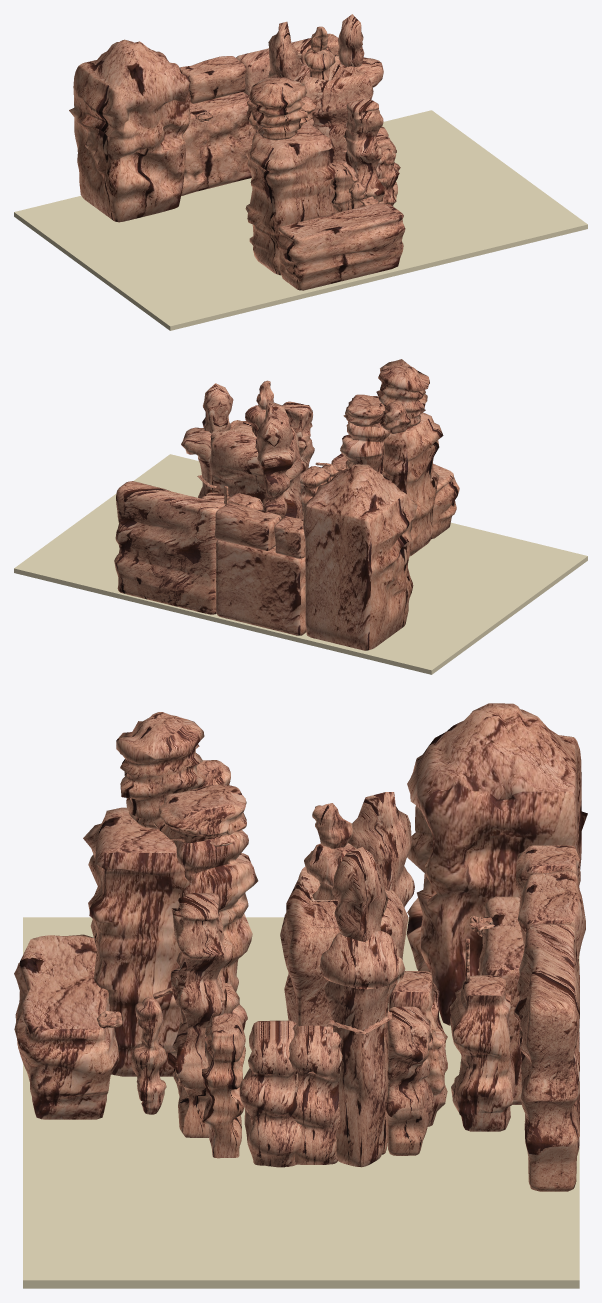
The model's file is env_model_level1_001.fbx.
The picture shows the model from 3 angles, top to bottom: view 1: azimuth 30°, elevation 25°; view 2: azimuth 150°, elevation 25°; view 3: azimuth 270°, elevation 25°; orthographic projection. The views are drawn at different scales.
Visible parts, largest first — view 1: ground, rockwall_a00, rockwall_c03, rockwall_c02, rockwall_a04, rockwall_b09, rockwall_c04, rockwall_b07, rockwall_a02, rockwall_a03, rockwall_b09a, rockwall_b03a (+4 smaller); view 2: ground, rockwall_a00, rockwall_a03, rockwall_a04, rockwall_c03, rockwall_b09, rockwall_b09a, rockwall_a02, rockwall_c04, rockwall_c07, rockwall_c02, rockwall_b03a (+6 smaller); view 3: ground, rockwall_a00, rockwall_c03, rockwall_c02, rockwall_a03, rockwall_b03, rockwall_b07, rockwall_a05, rockwall_b09, rockwall_b05, rockwall_c04, rockwall_b04 (+13 smaller).
Part boxes in pixels (x1,y1,x2,y2): ground: (14,110,587,330); rockwall_a00: (69,39,190,222); rockwall_c03: (245,123,337,275); rockwall_c02: (278,203,405,290); rockwall_a04: (181,92,255,195); rockwall_b09: (293,54,372,163); rockwall_c04: (248,76,307,140); rockwall_b07: (343,98,384,206); rockwall_a02: (180,56,246,103); rockwall_a03: (236,33,338,132); rockwall_b09a: (268,21,301,79); rockwall_b03a: (337,14,364,66); ground: (14,454,587,674); rockwall_a00: (303,464,417,650); rockwall_a03: (114,481,225,614); rockwall_a04: (216,540,306,635); rockwall_c03: (381,412,443,556); rockwall_b09: (210,420,302,518); rockwall_b09a: (255,400,295,518); rockwall_a02: (214,503,281,550); rockwall_c04: (376,359,429,426); rockwall_c07: (340,423,389,475); rockwall_c02: (331,453,459,538); rockwall_b03a: (202,383,233,433); ground: (23,917,579,1288); rockwall_a00: (406,703,587,1025); rockwall_c03: (83,807,189,1076); rockwall_c02: (14,934,119,1119); rockwall_a03: (513,924,579,1191); rockwall_b03: (319,931,405,1167); rockwall_b07: (168,893,232,1137); rockwall_a05: (449,975,514,1131); rockwall_b09: (280,867,408,1154); rockwall_b05: (239,1020,302,1167); rockwall_c04: (116,712,205,829); rockwall_b04: (288,1024,342,1164).
Bounding box in the file's own units: 24499 × 10492 × 16369.
